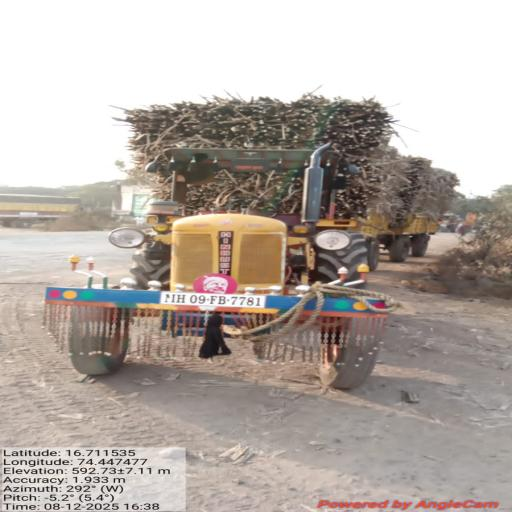number_plate: (158, 282, 268, 316)
